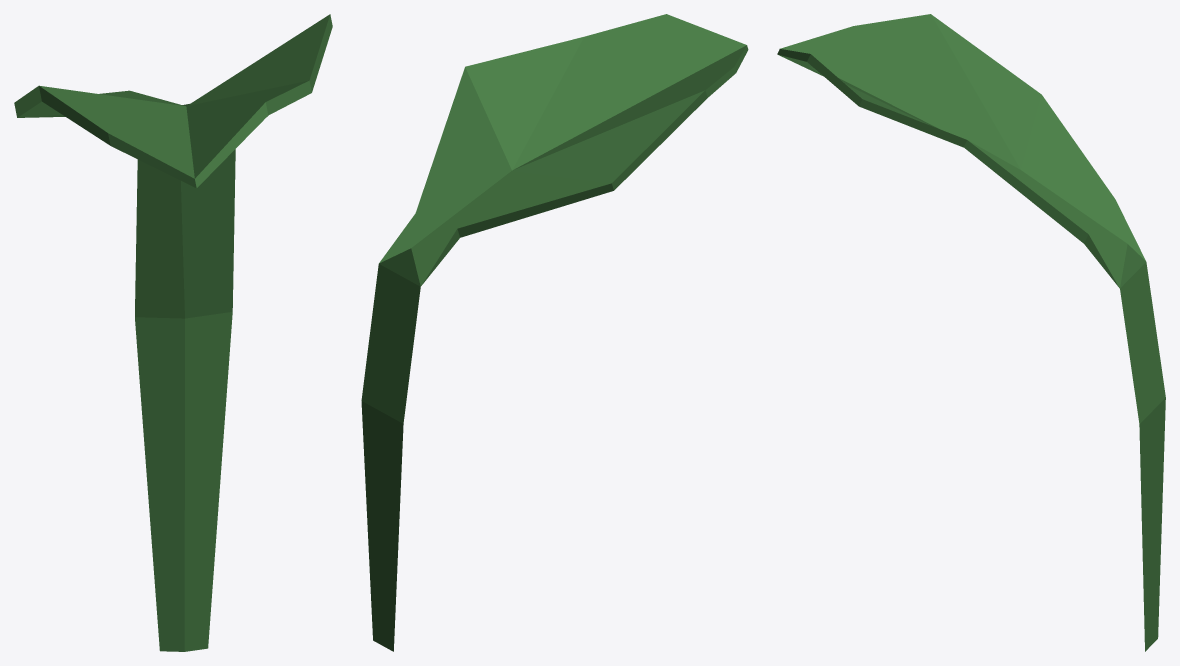
File: weedplant03.gltf
The picture shows the model from 3 angles, left to right: view 1: azimuth 30°, elevation 25°; view 2: azimuth 150°, elevation 25°; view 3: azimuth 270°, elevation 25°; orthographic projection. The views are drawn at different scales.
Parts seen in each view (by area): view 1: Plane; view 2: Plane; view 3: Plane.
Part boxes in pixels (<box>): Plane: <box>14,14,332,651</box>; Plane: <box>361,14,748,651</box>; Plane: <box>777,14,1165,651</box>.
Size of the model in its own units: 0.2368 by 0.505 by 0.3319.
Materials: 1 (1 with a texture image).
